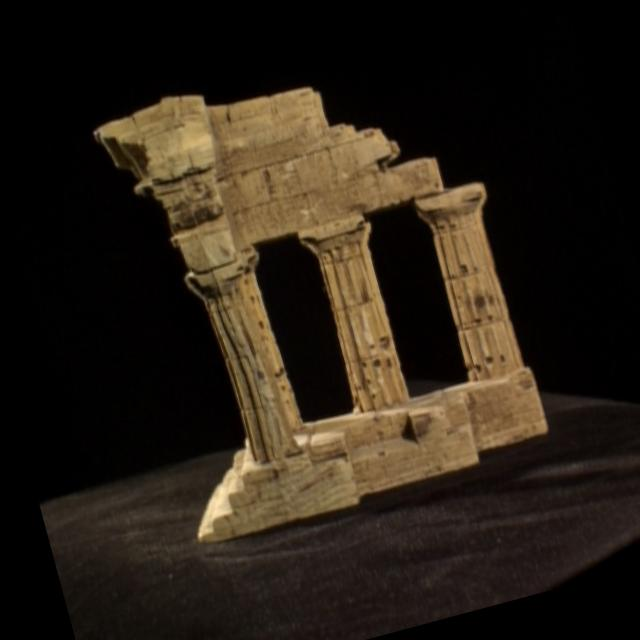Instance-Segmentation: (94, 90, 545, 542)
